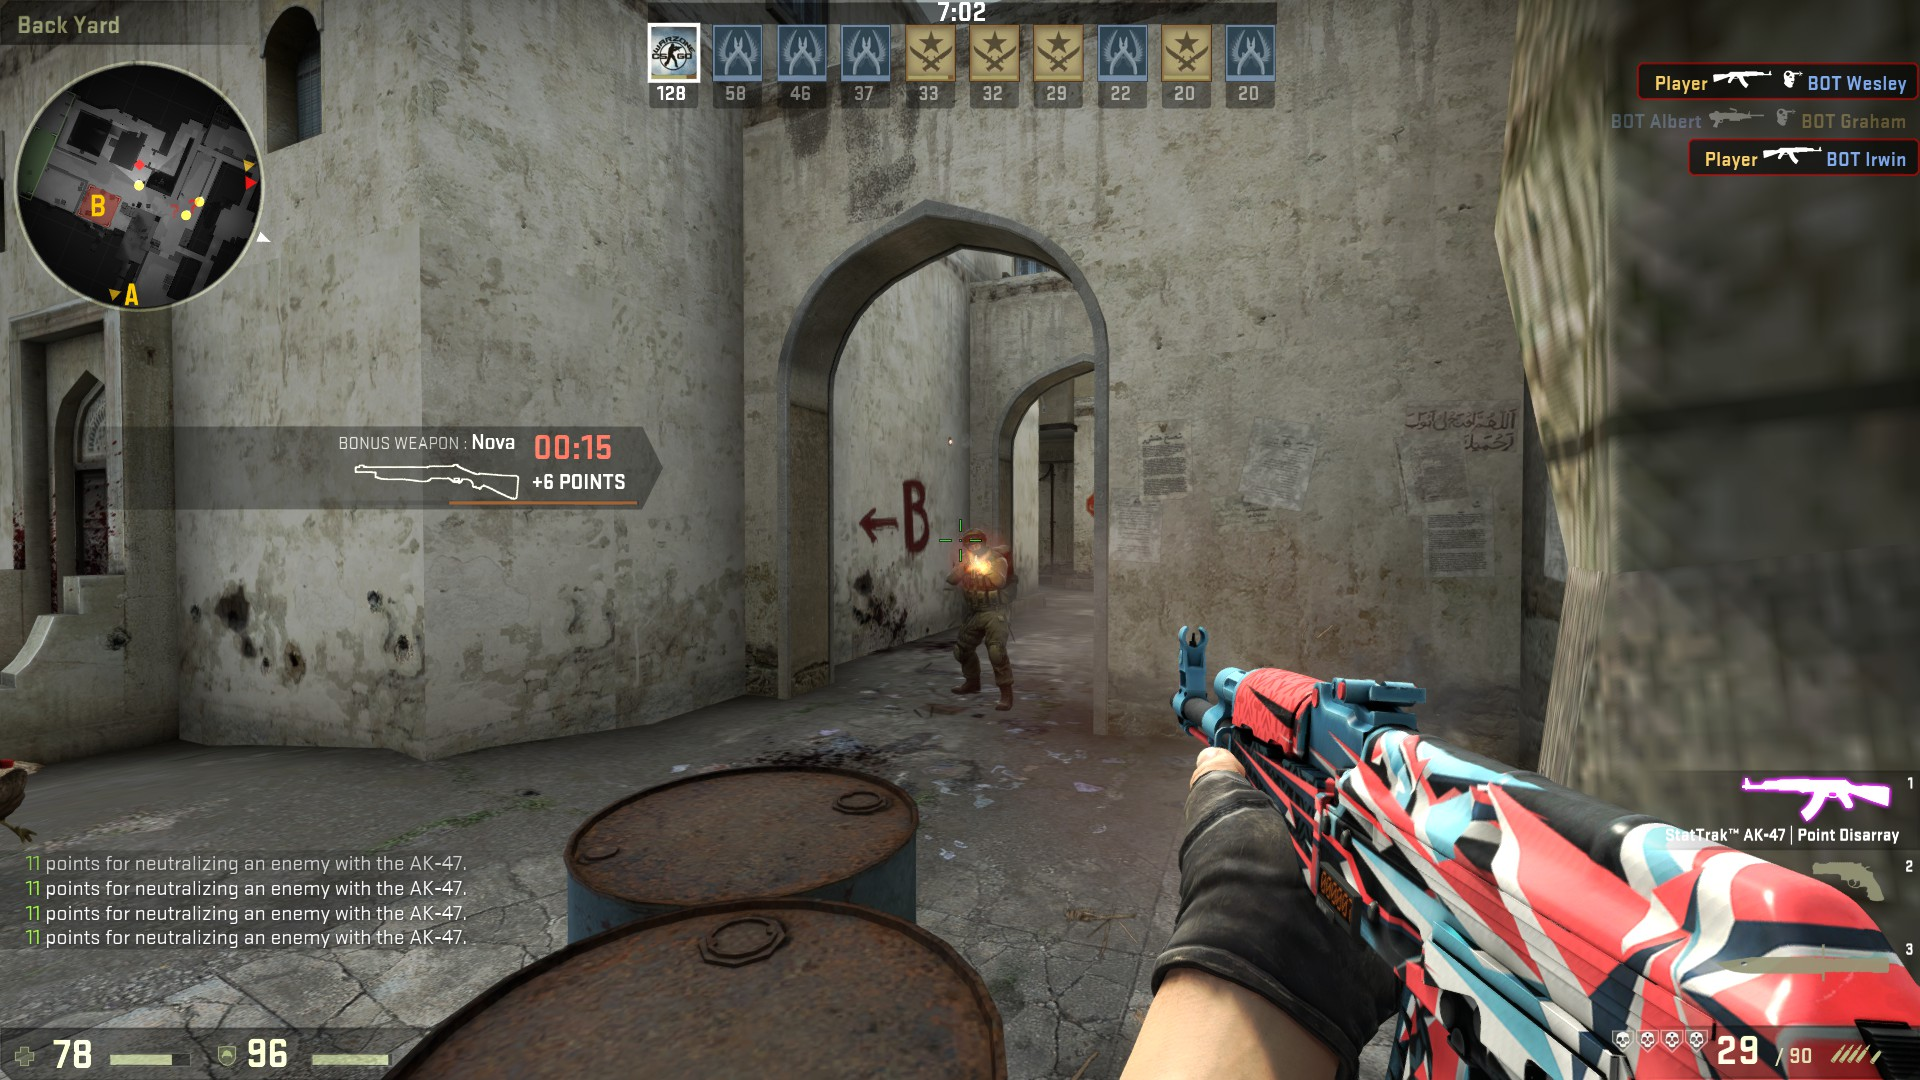c: (948, 527, 1019, 713)
ch: (955, 527, 994, 562)
